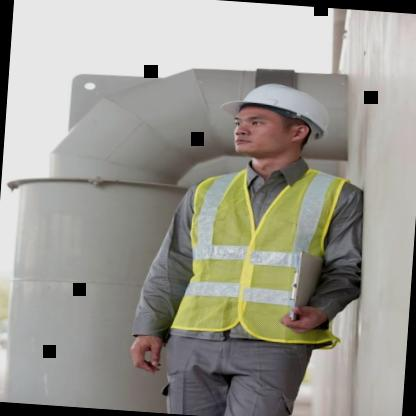helmet: (219, 66, 338, 174)
